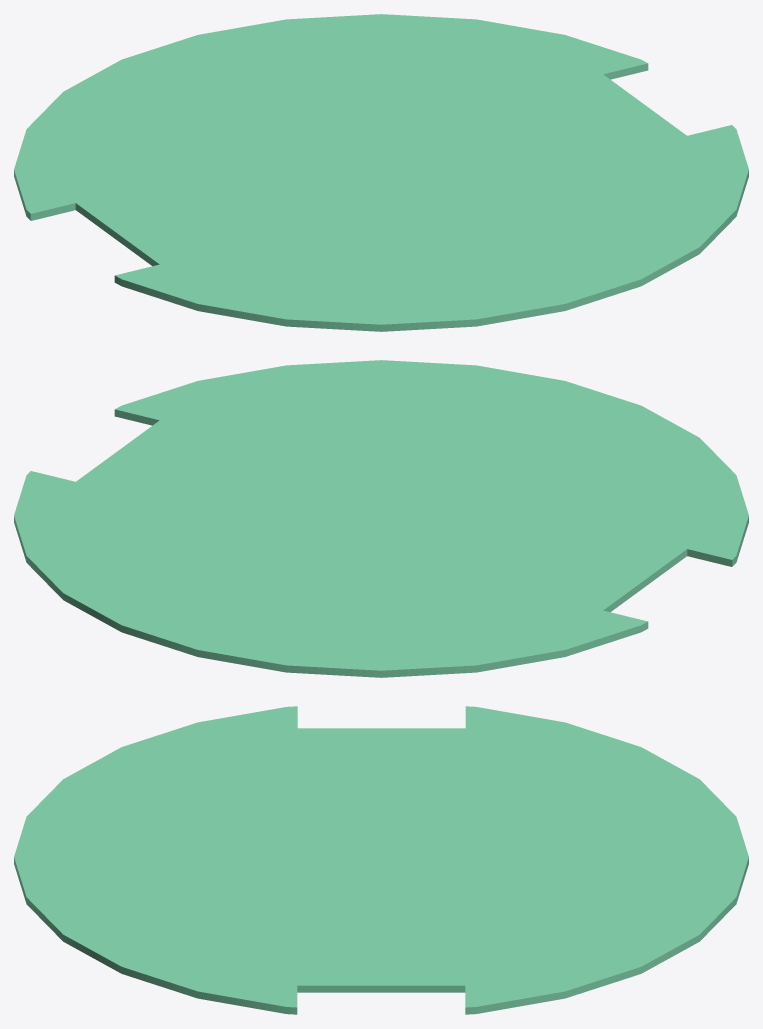
Rendered from base_green.dae.
The picture shows the model from 3 angles, top to bottom: view 1: azimuth 30°, elevation 25°; view 2: azimuth 150°, elevation 25°; view 3: azimuth 270°, elevation 25°; orthographic projection.
Parts seen in each view (by area): view 1: group_0; view 2: group_0; view 3: group_0.
Boxes of the visible parts, bbox=[...] form: group_0: bbox=[14, 14, 748, 331]; group_0: bbox=[14, 360, 748, 677]; group_0: bbox=[14, 706, 748, 1014].
Size of the model in its own units: 0.1358 by 0.14 by 0.0015.
